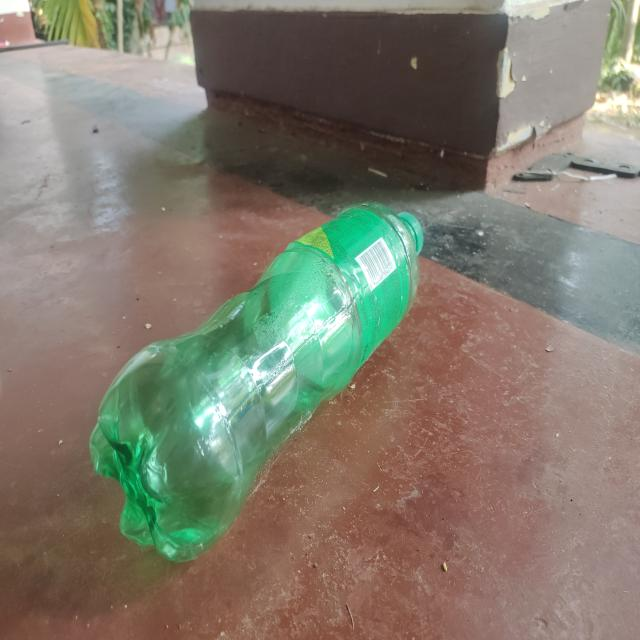plastic: (90, 199, 426, 561)
